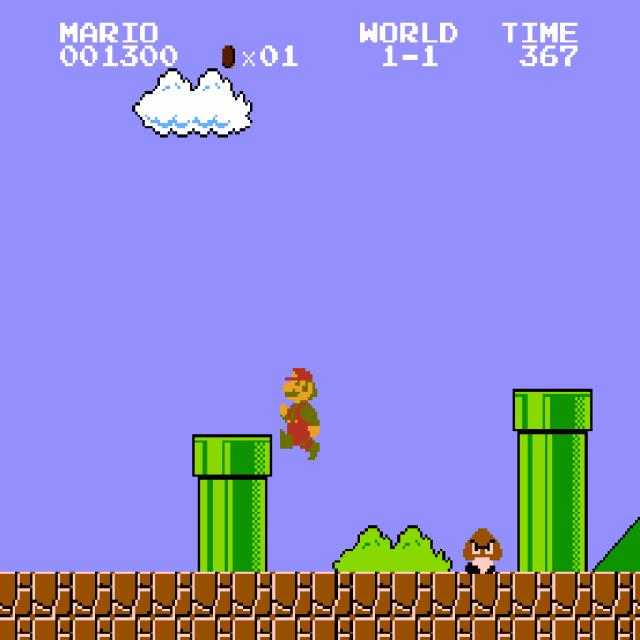big_mario: (277, 366, 320, 460)
goomba: (460, 526, 503, 574)
pipe: (192, 480, 233, 526), (232, 480, 273, 526), (512, 434, 553, 480), (512, 480, 553, 526), (552, 434, 593, 480), (552, 480, 593, 526), (192, 526, 233, 571), (232, 526, 273, 571), (512, 526, 553, 571), (552, 526, 593, 571)
pipe_head: (192, 434, 233, 480), (232, 434, 273, 480), (512, 389, 553, 434), (552, 389, 593, 434)
undestructible_block: (32, 572, 73, 617), (72, 572, 113, 617), (112, 572, 153, 617), (152, 572, 193, 617), (192, 572, 233, 617), (232, 572, 273, 617), (272, 572, 313, 617), (312, 572, 353, 617), (352, 572, 393, 617), (392, 572, 433, 617), (432, 572, 473, 617), (472, 572, 513, 617), (512, 572, 553, 617), (552, 572, 593, 617), (592, 572, 633, 617), (0, 571, 32, 617), (32, 617, 73, 640), (72, 617, 113, 640), (112, 617, 153, 640), (152, 617, 193, 640), (192, 617, 233, 640), (232, 617, 273, 640), (272, 617, 313, 640), (312, 617, 353, 640), (352, 617, 393, 640), (392, 617, 433, 640), (432, 617, 473, 640), (472, 617, 513, 640), (512, 617, 553, 640), (552, 617, 593, 640), (592, 617, 633, 640), (0, 617, 32, 639), (633, 572, 640, 617), (633, 617, 640, 640)
